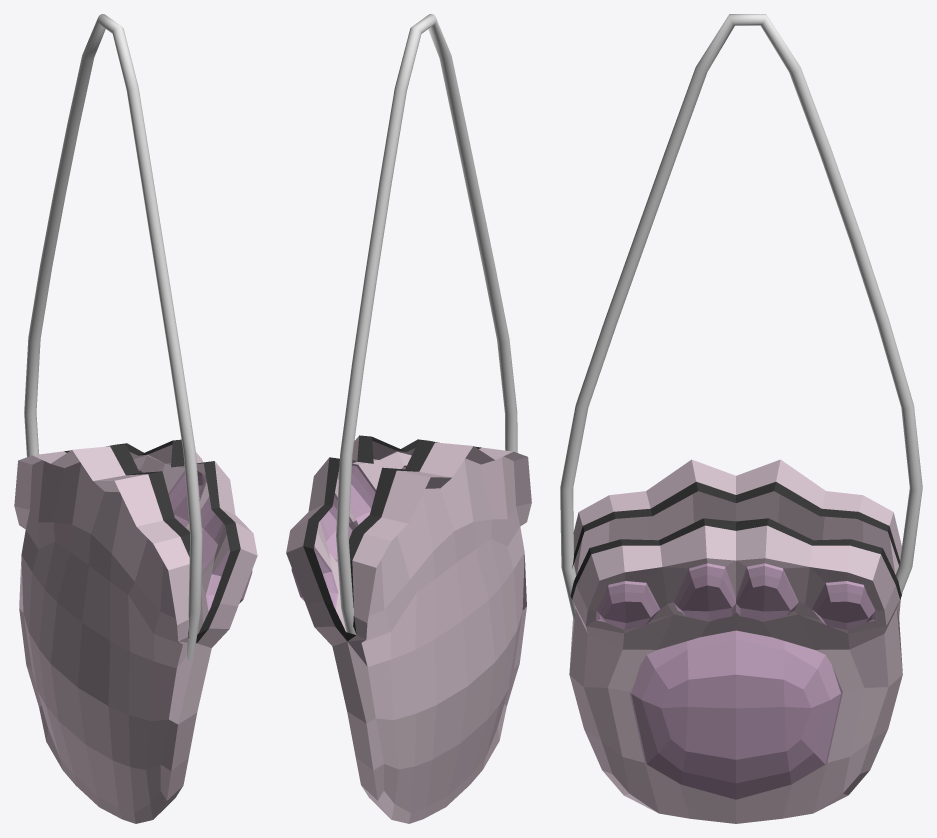
Rendered from Dompet.fbx.
The picture shows the model from 3 angles, left to right: view 1: azimuth 30°, elevation 25°; view 2: azimuth 150°, elevation 25°; view 3: azimuth 270°, elevation 25°; orthographic projection. The views are drawn at different scales.
Visible parts, largest first — view 1: Cube.004, NurbsPath; view 2: Cube.004, NurbsPath; view 3: Cube.004, NurbsPath.
Boxes of the visible parts, x1,y1,x2,y2 form: Cube.004: (14,439,257,823); NurbsPath: (24,14,202,661); Cube.004: (286,435,531,823); NurbsPath: (336,14,517,634); Cube.004: (569,459,902,823); NurbsPath: (560,14,922,621).
Size of the model in its own units: 2.58 by 13.83 by 5.56.
